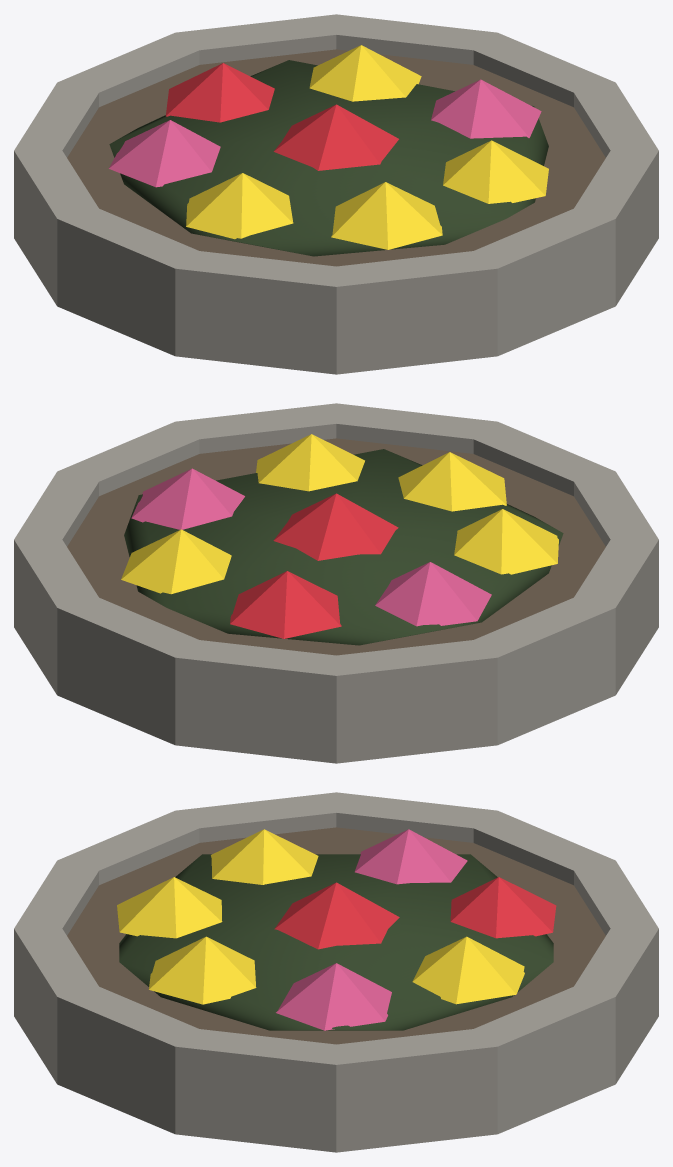
Rendered from site_flower1.fbx.
The picture shows the model from 3 angles, top to bottom: view 1: azimuth 30°, elevation 25°; view 2: azimuth 150°, elevation 25°; view 3: azimuth 270°, elevation 25°; orthographic projection.
Visible parts, largest first — view 1: a3004/0/site_flower1; view 2: a3004/0/site_flower1; view 3: a3004/0/site_flower1.
Part boxes in pixels (x1=…): a3004/0/site_flower1: x1=14, y1=14, x2=658, y2=374; a3004/0/site_flower1: x1=14, y1=403, x2=658, y2=763; a3004/0/site_flower1: x1=14, y1=792, x2=658, y2=1152.
Size of the model in its own units: 2.4 by 0.55 by 2.4.
